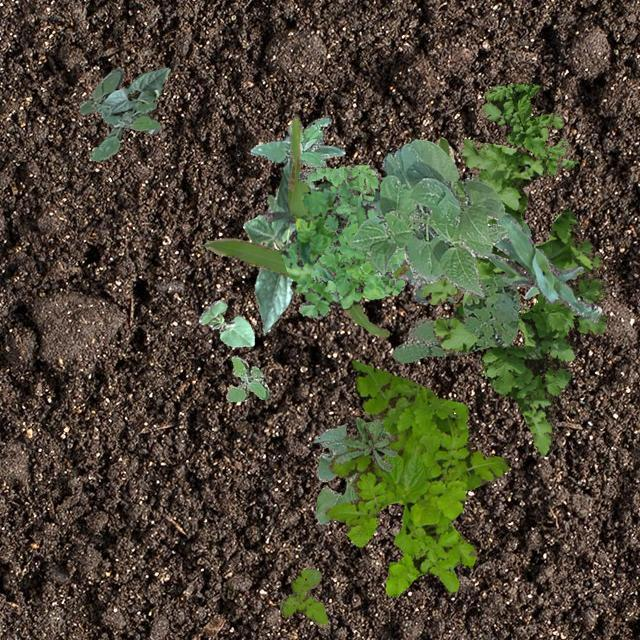crop: (199, 118, 453, 336), (348, 138, 507, 296), (264, 182, 426, 288), (486, 212, 600, 322), (242, 154, 298, 333), (312, 420, 392, 522), (94, 66, 170, 115), (198, 298, 254, 346)
weed: (421, 137, 608, 456), (324, 360, 510, 596), (390, 214, 530, 362), (298, 164, 406, 298), (280, 182, 378, 318), (478, 82, 570, 175), (78, 66, 158, 160), (250, 114, 344, 188), (334, 418, 396, 472), (278, 568, 328, 626), (224, 354, 268, 400), (524, 286, 538, 298)
